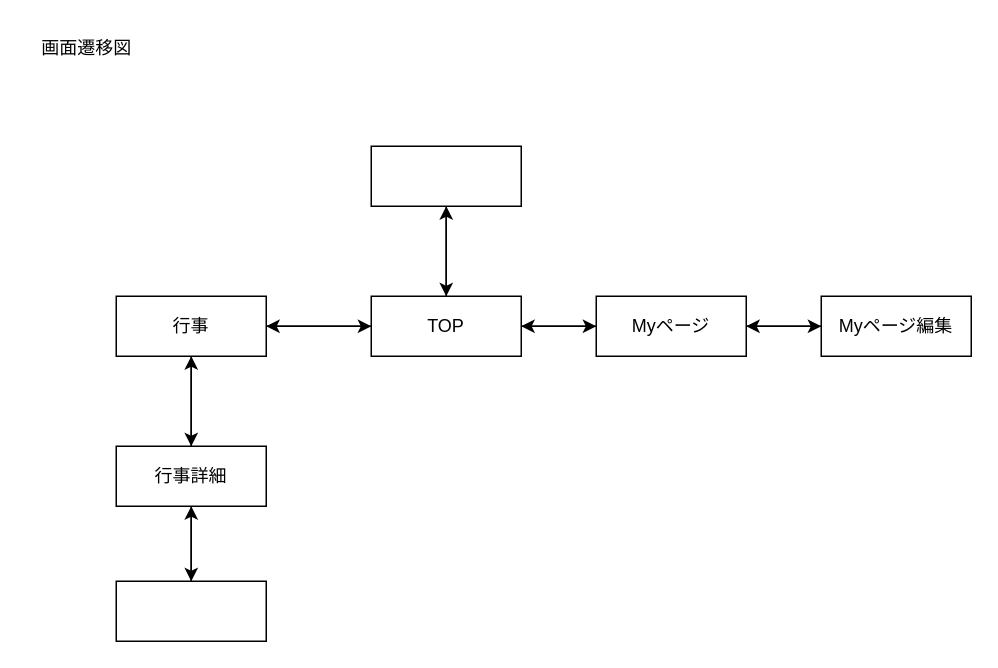
The diagram is 998 pixels wide and 668 high, and some of its shapes have lost their labels. The shapes that lost their labels are listed below. From the top down, each one's box as (x1, y1, x2, y2) in pixels, then its label:
(370, 145, 521, 206): ログイン画面
(115, 580, 266, 641): 写真添付画面
